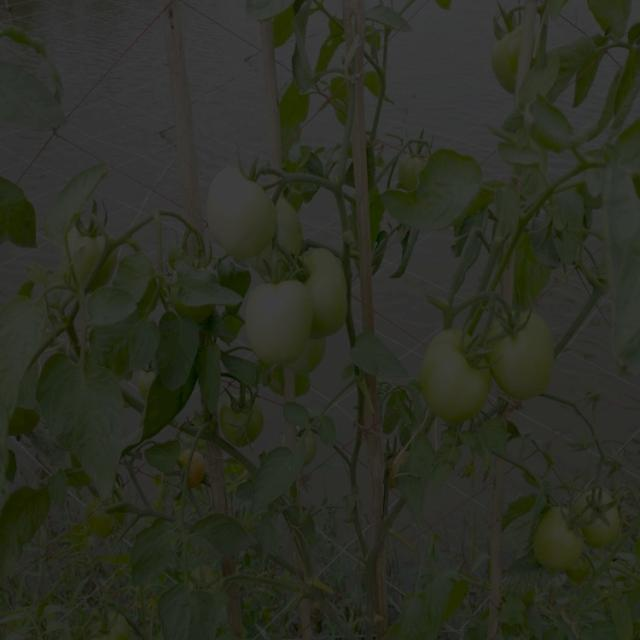tomato: (419, 318, 498, 439), (489, 304, 559, 406), (199, 164, 273, 258), (240, 265, 302, 364), (535, 507, 594, 586), (298, 246, 349, 335), (481, 7, 527, 93), (69, 217, 110, 279), (583, 495, 626, 551), (221, 393, 258, 448), (390, 133, 430, 181), (189, 449, 213, 501), (284, 425, 311, 451)
